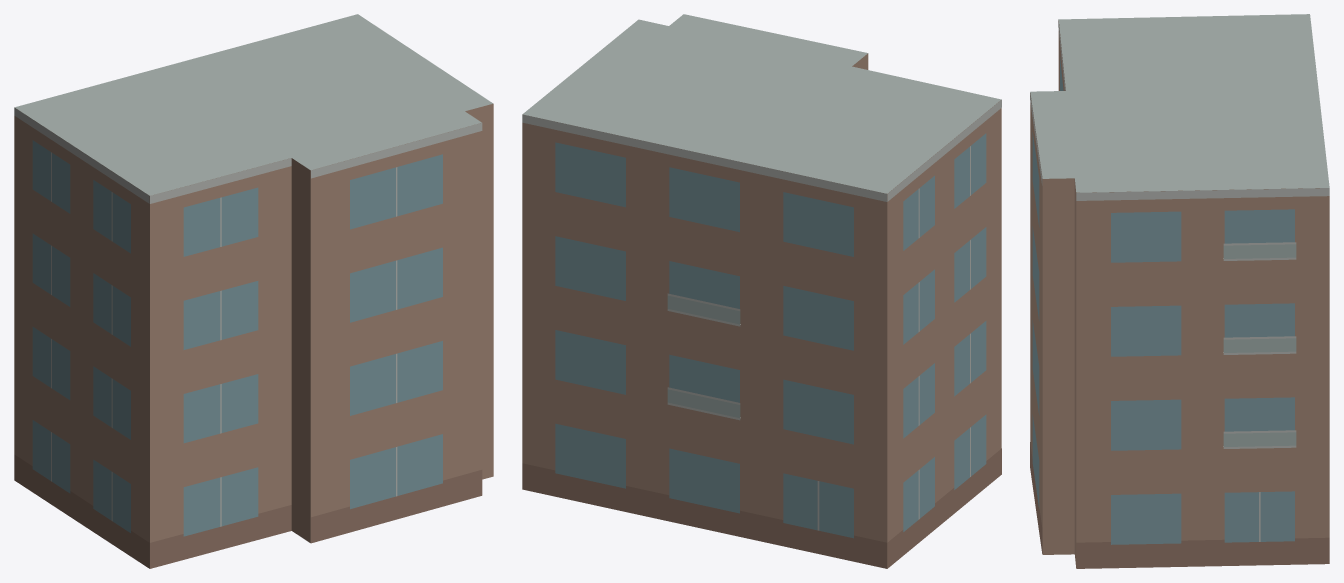
The model's file is survey-upis-32925751.glb.
3 views of the same model, side by side, from view 1: azimuth 30°, elevation 25°; view 2: azimuth 150°, elevation 25°; view 3: azimuth 270°, elevation 25° (orthographic).
Visible parts, largest first — view 1: survey-upis-32925751.tmp; view 2: survey-upis-32925751.tmp; view 3: survey-upis-32925751.tmp.
Part boxes in pixels (x1,y1,x2,y2): survey-upis-32925751.tmp: (14,14,493,568); survey-upis-32925751.tmp: (522,14,1001,568); survey-upis-32925751.tmp: (1030,14,1329,568).
Size of the model in its own units: 11.32 by 11.1 by 8.02.
